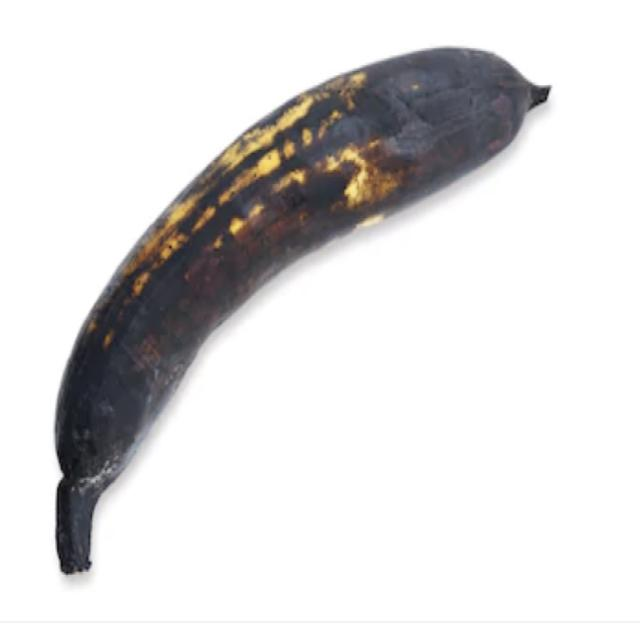rotten-banana: (52, 41, 551, 575)
